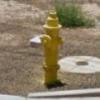a fire hydrant: (37, 14, 63, 81)
